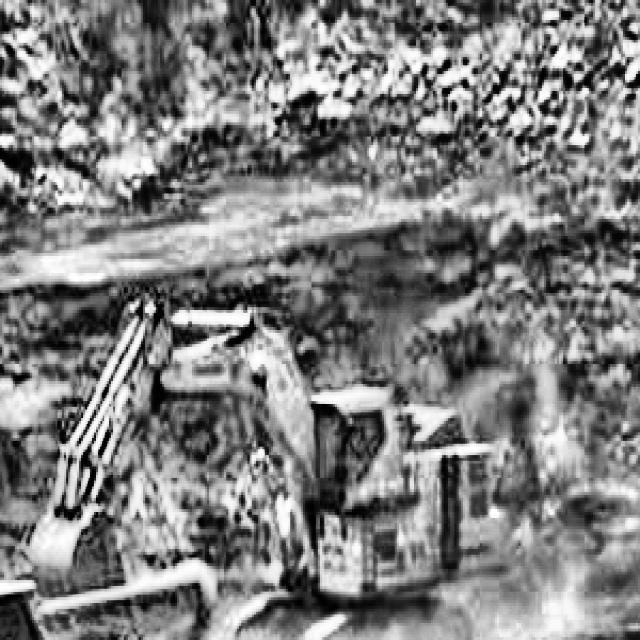excavator: (37, 291, 529, 640)
